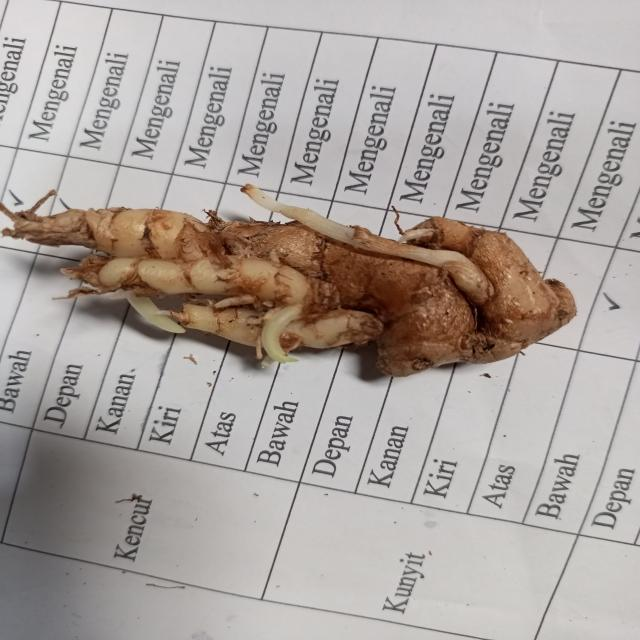ginger: (53, 202, 558, 366)
